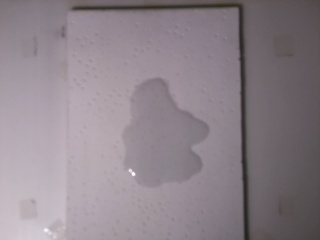Water_detected: (130, 84, 199, 183)
